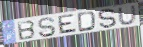B: (16, 20, 37, 42)
D: (77, 10, 97, 33)
E: (58, 13, 78, 35)
S: (97, 8, 118, 30), (37, 17, 57, 38)
U: (117, 4, 138, 26)
